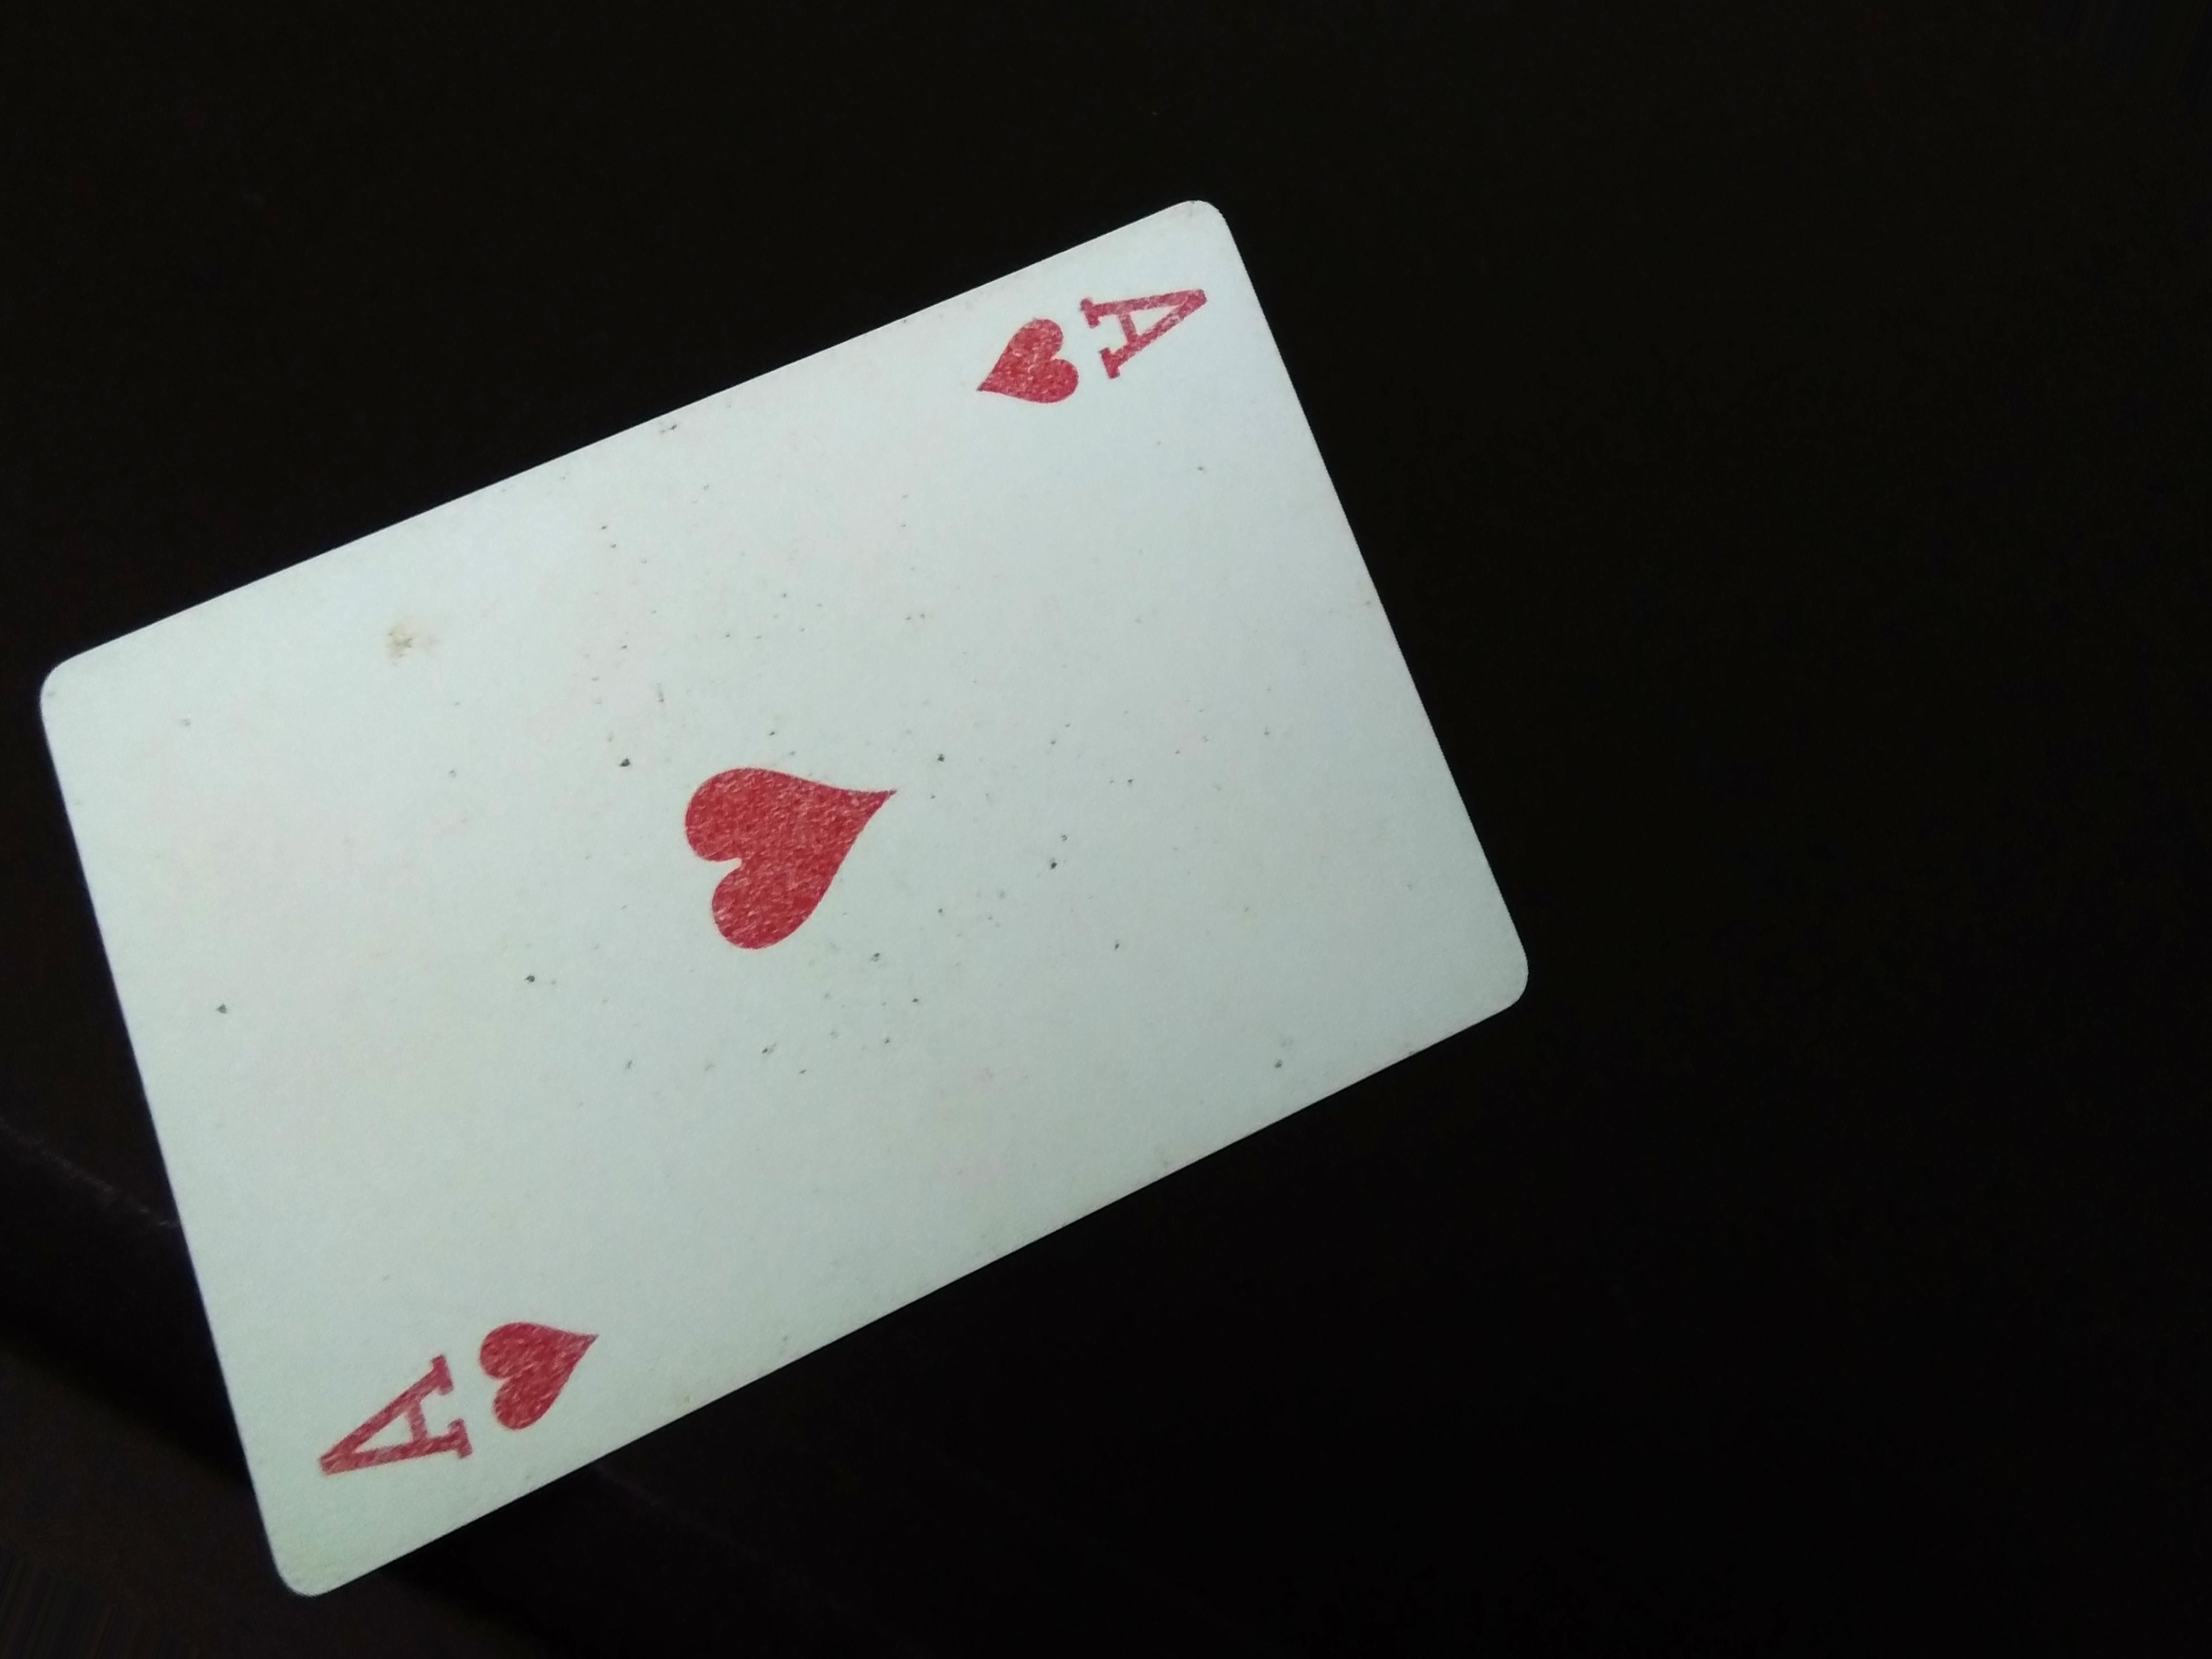AH: (315, 1284, 617, 1500)
